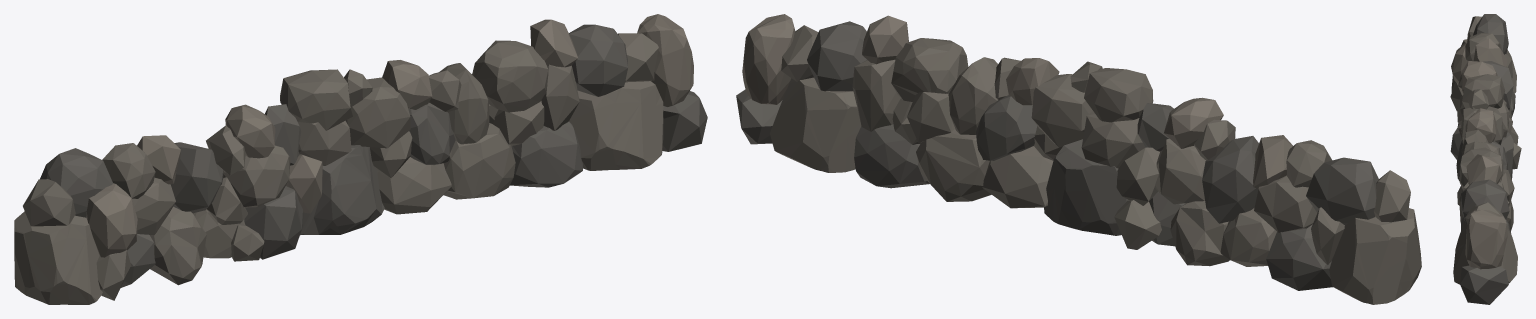
File: Prop_Stonewall_Long_01.glb
3 views of the same model, side by side, from view 1: azimuth 30°, elevation 25°; view 2: azimuth 150°, elevation 25°; view 3: azimuth 270°, elevation 25° (orthographic). The views are drawn at different scales.
Visible parts, largest first — view 1: SM_Prop_Stonewall_Long_01_LOD0; view 2: SM_Prop_Stonewall_Long_01_LOD0; view 3: SM_Prop_Stonewall_Long_01_LOD0.
Part boxes in pixels (x1,y1,x2,y2): SM_Prop_Stonewall_Long_01_LOD0: (14, 14, 707, 304); SM_Prop_Stonewall_Long_01_LOD0: (736, 14, 1421, 304); SM_Prop_Stonewall_Long_01_LOD0: (1450, 14, 1521, 304).
Bounding box in the file's own units: 5.37 × 1.24 × 0.7242.
Materials: 1 (1 with a texture image).
